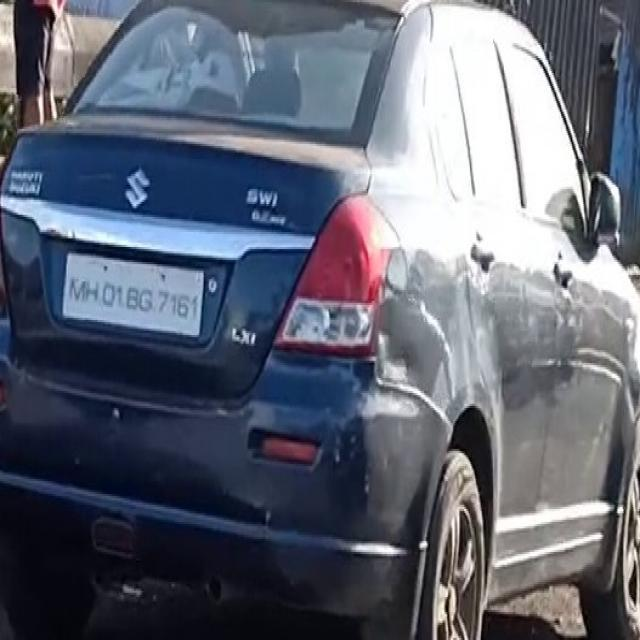Plate: (60, 246, 204, 338)
